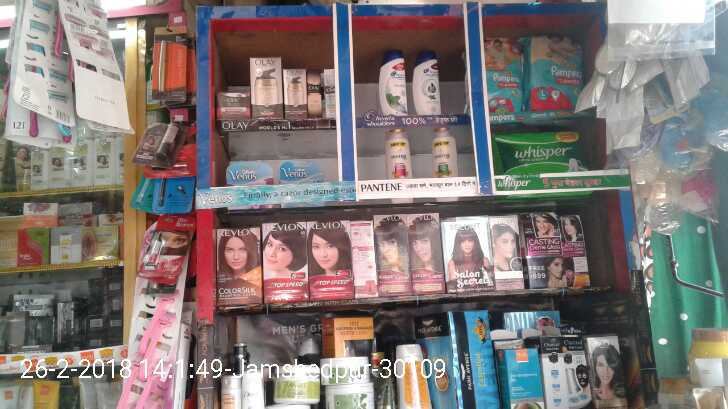venus: (3, 1, 114, 143), (126, 292, 187, 409), (272, 162, 321, 187), (221, 168, 271, 187)
